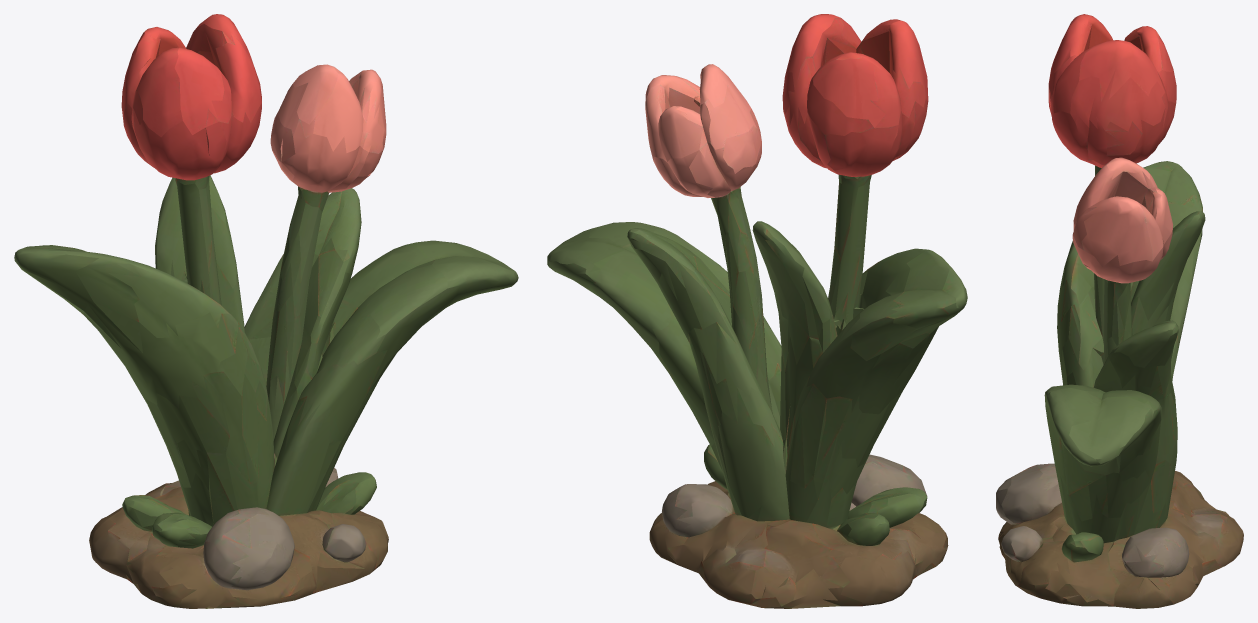
Rendered from model-lounge-tulips-f1a1347dc702.glb.
3 views of the same model, side by side, from view 1: azimuth 30°, elevation 25°; view 2: azimuth 150°, elevation 25°; view 3: azimuth 270°, elevation 25° (orthographic). The views are drawn at different scales.
Visible parts, largest first — view 1: Mesh_0; view 2: Mesh_0; view 3: Mesh_0.
Boxes of the visible parts, x1,y1,x2,y2 form: Mesh_0: (14, 14, 518, 608); Mesh_0: (547, 14, 967, 608); Mesh_0: (996, 14, 1243, 608).
Size of the model in its own units: 0.9726 by 1.1 by 0.4922.
1 material, 1 textured.
